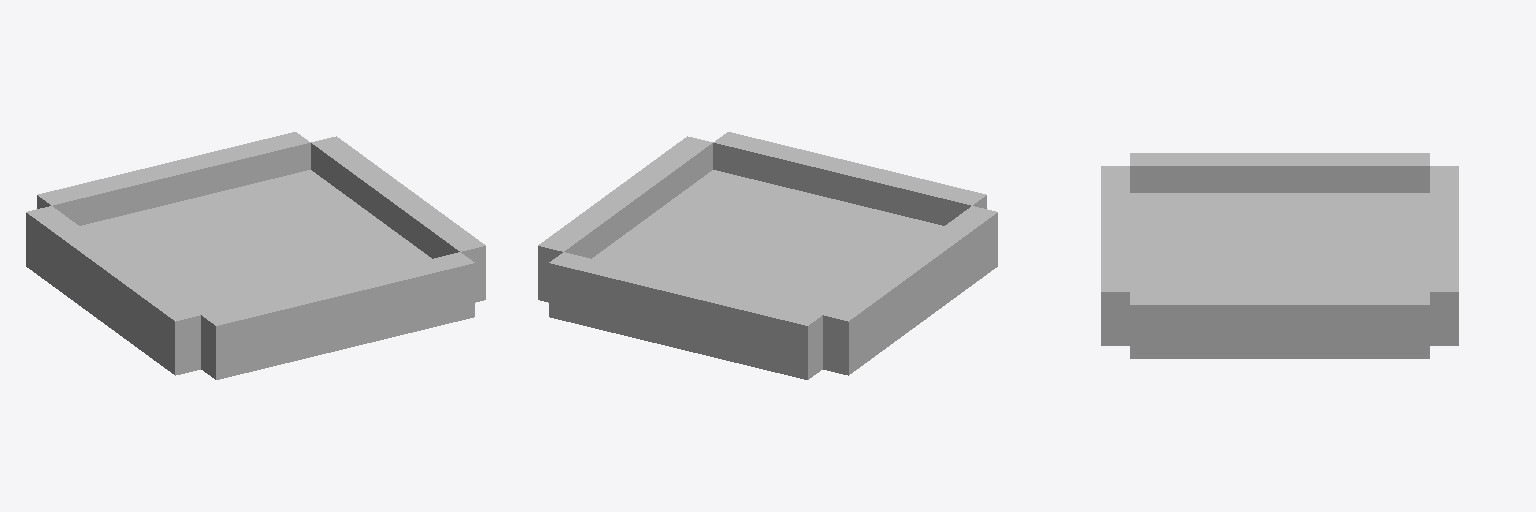
The model's file is hardcook_baking_tray.obj.
The picture shows the model from 3 angles: view 1: azimuth 30°, elevation 25°; view 2: azimuth 150°, elevation 25°; view 3: azimuth 270°, elevation 25°; orthographic projection.
Parts seen in each view (by area): view 1: node_0_0_0.004; view 2: node_0_0_0.004; view 3: node_0_0_0.004.
Boxes of the visible parts, x1=… form: node_0_0_0.004: x1=26, y1=132, x2=485, y2=379; node_0_0_0.004: x1=538, y1=132, x2=997, y2=379; node_0_0_0.004: x1=1101, y1=153, x2=1458, y2=358.
Size of the model in its own units: 0.75 by 0.125 by 0.75.